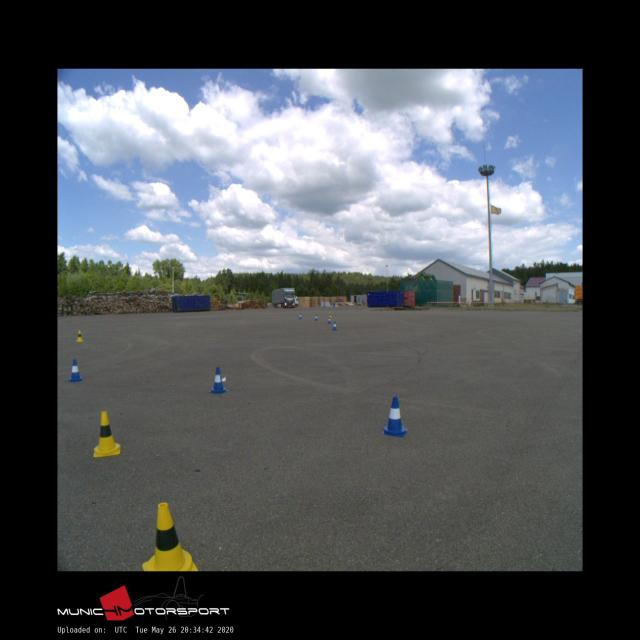blue_cone: (381, 396, 408, 436), (209, 367, 227, 393), (68, 359, 84, 382), (332, 322, 338, 331), (314, 314, 318, 321), (327, 317, 331, 323), (299, 313, 302, 319)
yellow_cone: (142, 503, 198, 571), (94, 412, 120, 456), (76, 330, 83, 342), (329, 312, 332, 318)
